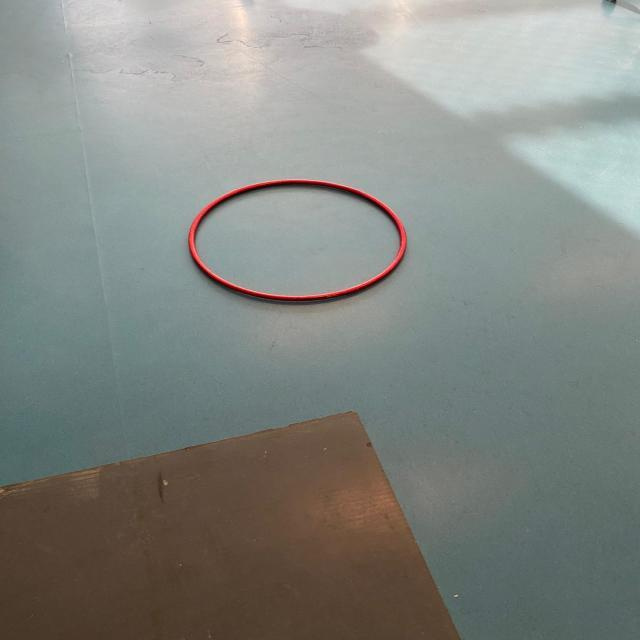Circle: (182, 171, 414, 307)
